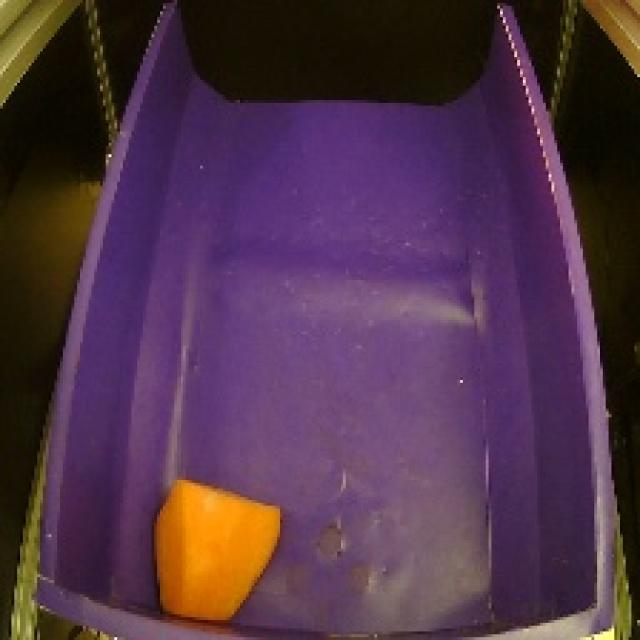carrots: (145, 466, 290, 630)
